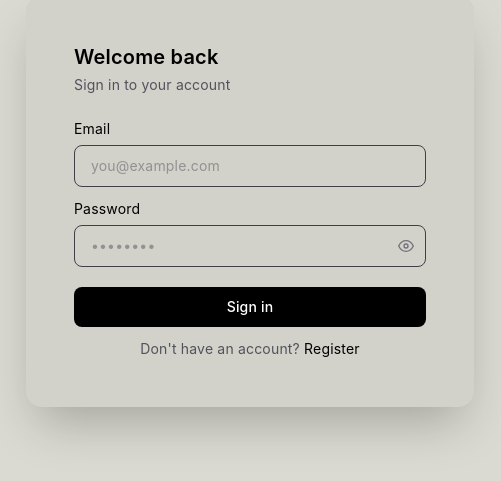
Test: LoginForm › Validation › shows error for empty email
The image size is (501, 481).
Click the button "Sign in" at (250, 307), box [74,287,426,327]
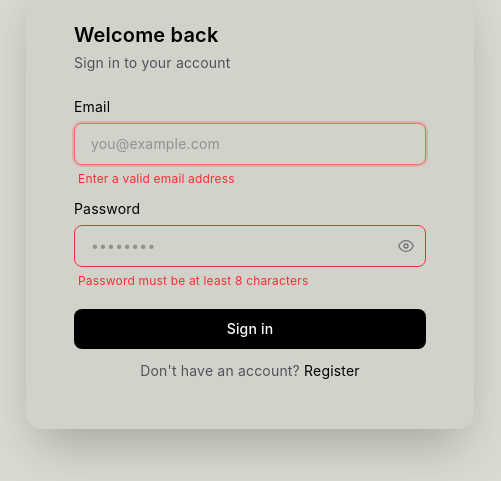
Now the text "Enter a valid email address" is shown, box [78,171,235,186]
